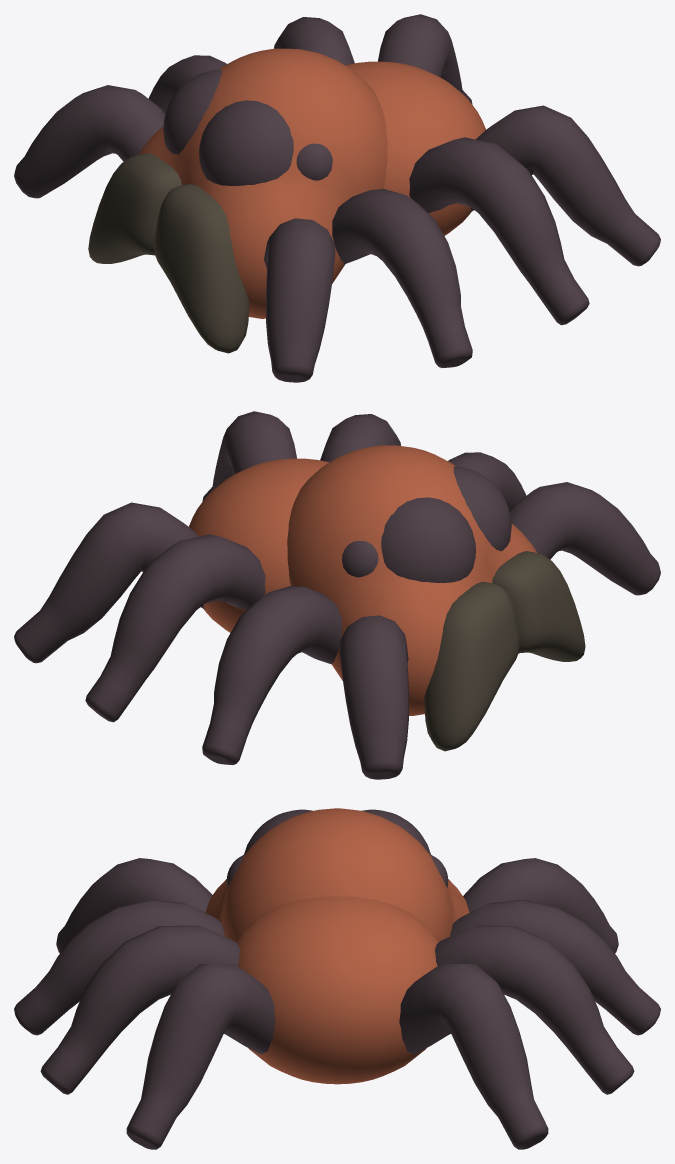
The model's file is Daddy.fbx.
The picture shows the model from 3 angles, top to bottom: view 1: azimuth 30°, elevation 25°; view 2: azimuth 150°, elevation 25°; view 3: azimuth 270°, elevation 25°; orthographic projection.
Visible parts, largest first — view 1: Cube; view 2: Cube; view 3: Cube.
Part boxes in pixels (bbox=[...]): Cube: bbox=[14, 14, 660, 382]; Cube: bbox=[14, 411, 660, 779]; Cube: bbox=[14, 808, 660, 1149].
Size of the model in its own units: 729 by 363 by 960.
